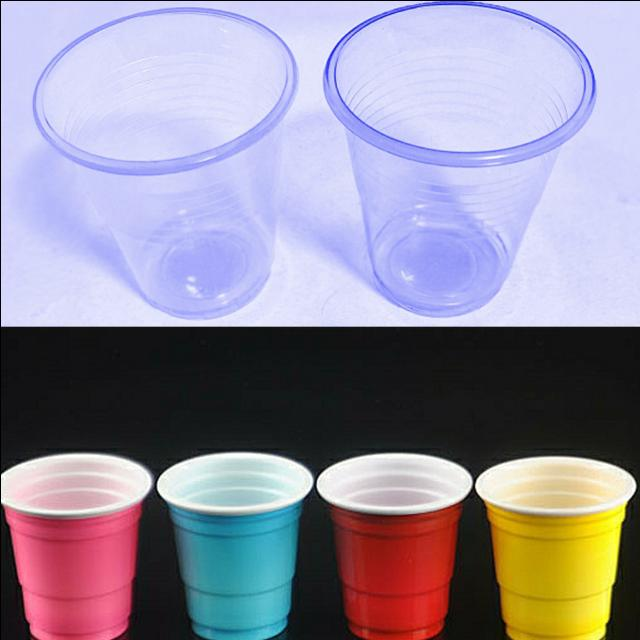plastik: (322, 1, 595, 315), (32, 7, 297, 318), (475, 455, 635, 640), (156, 451, 312, 640), (316, 452, 472, 640), (0, 452, 152, 640)
